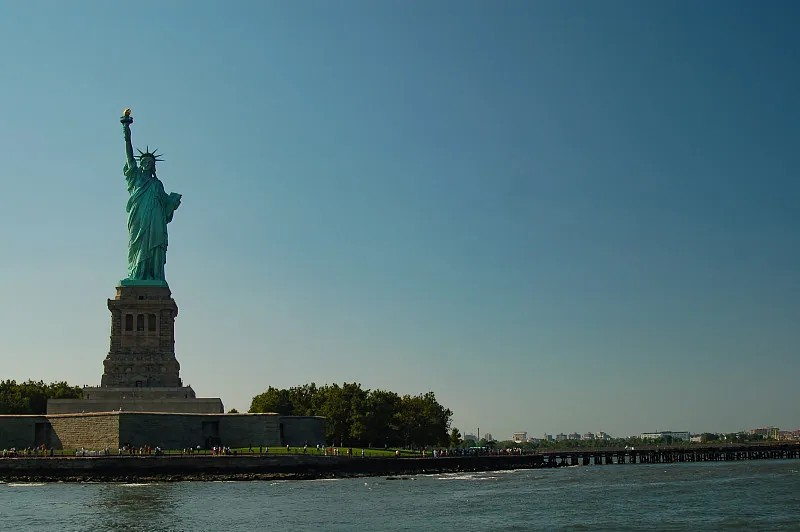SL: (100, 108, 184, 387)
